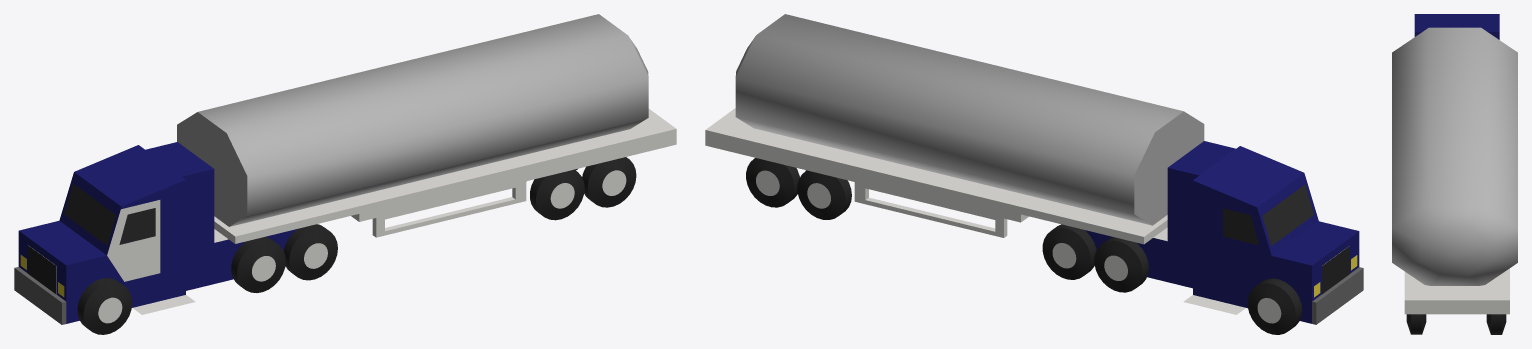
File: fuel_truck.dae
3 views of the same model, side by side, from view 1: azimuth 30°, elevation 25°; view 2: azimuth 150°, elevation 25°; view 3: azimuth 270°, elevation 25° (orthographic). The views are drawn at different scales.
Parts seen in each view (by area): view 1: Silo_001, Semi-truck-and-trailer_005, TireSemi_021, TireSemi_027, TireSemi_022, Group_001, TireSemi_030, TireSemi_023; view 2: Silo_001, Semi-truck-and-trailer_005, TireSemi_026, TireSemi_028, TireSemi_024, Group_001, TireSemi_029, TireSemi_025; view 3: Silo_001, Semi-truck-and-trailer_005, TireSemi_025, TireSemi_023.
Boxes of the visible parts, box(x1,y1,x2,y2) form: Silo_001: box(177, 14, 648, 226); Semi-truck-and-trailer_005: box(14, 109, 676, 324); TireSemi_021: box(77, 278, 132, 334); TireSemi_027: box(231, 237, 285, 292); TireSemi_022: box(283, 224, 337, 280); Group_001: box(372, 181, 526, 237); TireSemi_030: box(530, 169, 584, 220); TireSemi_023: box(582, 157, 636, 207); Silo_001: box(735, 14, 1204, 225); Semi-truck-and-trailer_005: box(705, 108, 1363, 324); TireSemi_026: box(1247, 278, 1302, 334); TireSemi_028: box(1094, 237, 1148, 292); TireSemi_024: box(1042, 224, 1096, 279); Group_001: box(854, 182, 1007, 237); TireSemi_029: box(797, 170, 851, 219); TireSemi_025: box(746, 158, 799, 207); Silo_001: box(1392, 27, 1517, 285); Semi-truck-and-trailer_005: box(1404, 14, 1509, 314); TireSemi_025: box(1486, 314, 1506, 334); TireSemi_023: box(1406, 314, 1426, 334).
Bounding box in the file's own units: 17.19 × 4.26 × 3.44.
